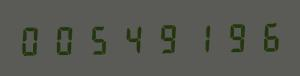five: (83, 21, 115, 56)
four: (116, 20, 148, 56)
nine: (215, 18, 247, 54), (149, 20, 181, 55)
one: (182, 19, 214, 54)
six: (248, 18, 280, 53)
zero: (50, 21, 82, 57), (17, 22, 49, 57)
